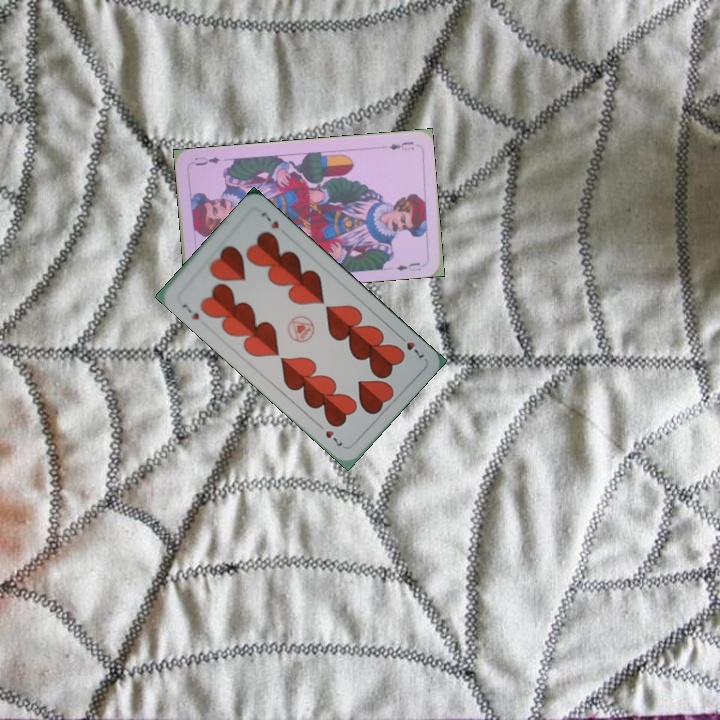EU: (385, 137, 416, 153)
H7: (394, 330, 427, 361), (178, 300, 202, 323)
